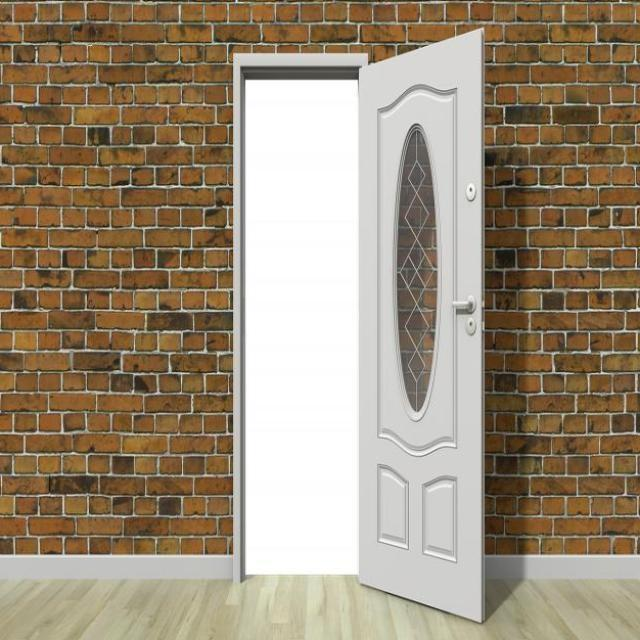door: (356, 25, 486, 623)
